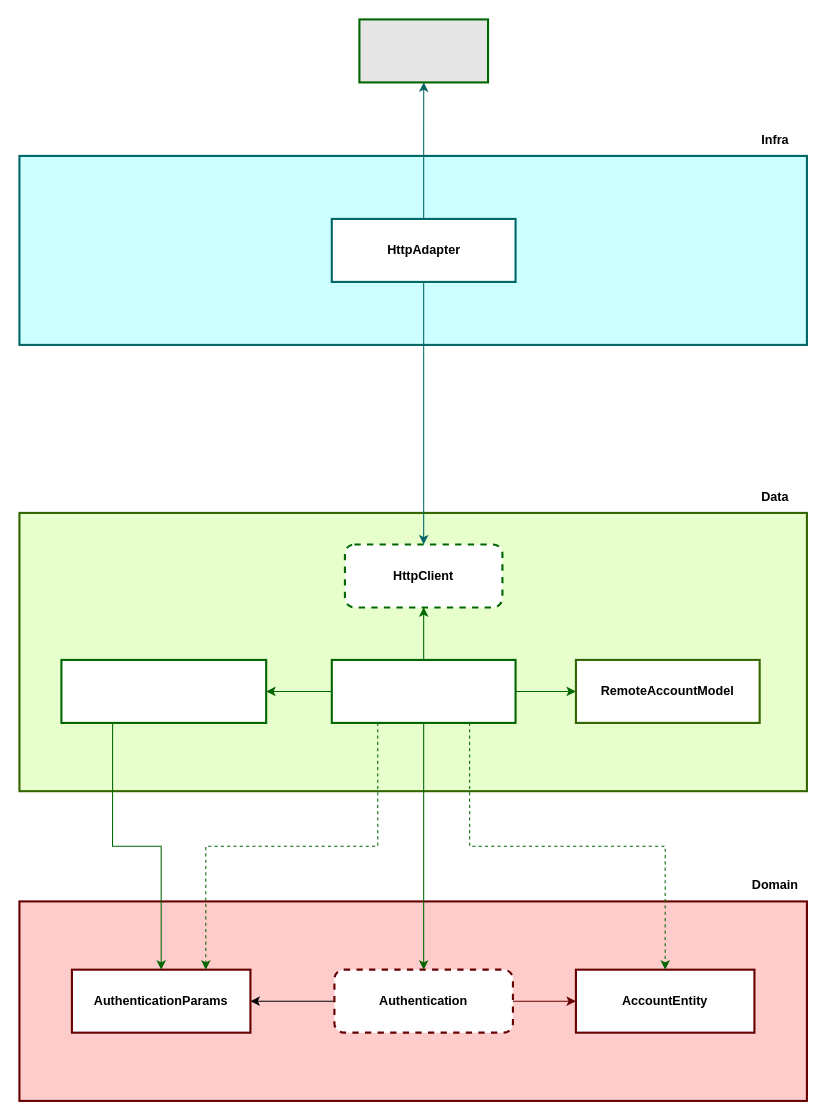
This 825x1119 diagram has some shape labels left out. The box of each missing label's shape, as (x1, y1, x2, y2) in pixels:
Http: (358, 18, 489, 83)
RemoteAuthentication: (330, 658, 516, 723)
RemoteAuthenticationParams: (60, 658, 267, 723)
